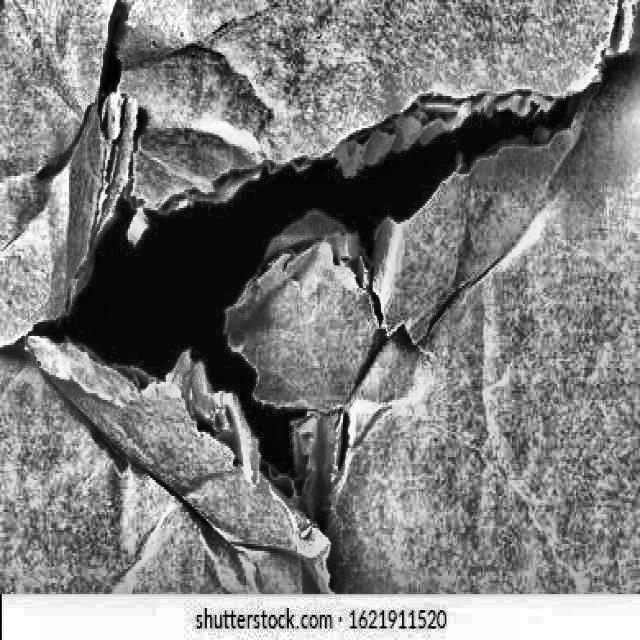box: (0, 0, 640, 589)
hole: (66, 99, 585, 476)
